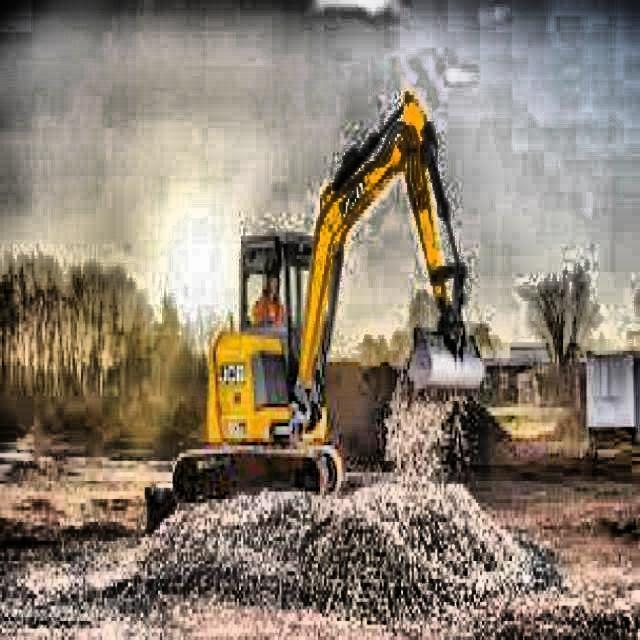bull_dozer/loader/grader: (170, 87, 488, 503)
person: (250, 274, 288, 329)
